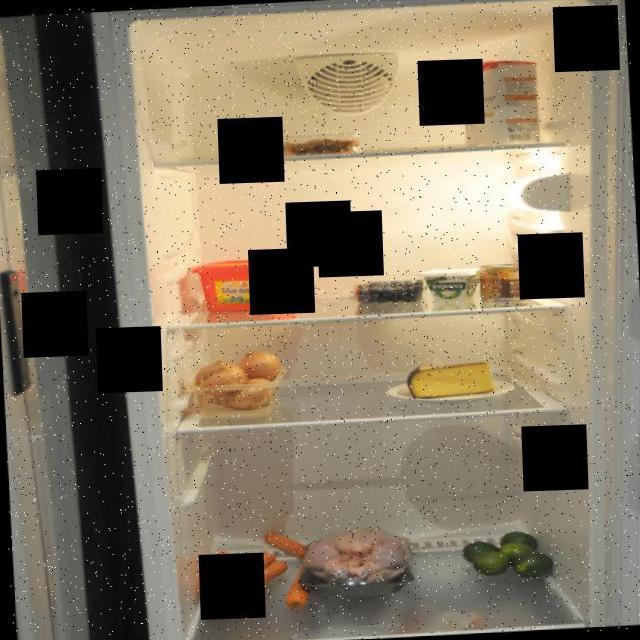Carne pollo: (295, 524, 421, 602)
Cebolla: (191, 346, 284, 414)
Gambas/Langostinos: (278, 134, 362, 159)
Mantequilla: (190, 253, 304, 316)
Queso: (406, 359, 499, 400), (417, 262, 480, 302)
Zanahoria: (191, 526, 322, 616)
blueberries: (354, 276, 426, 304)
corn: (477, 262, 530, 304)
sugar: (455, 55, 541, 151)
